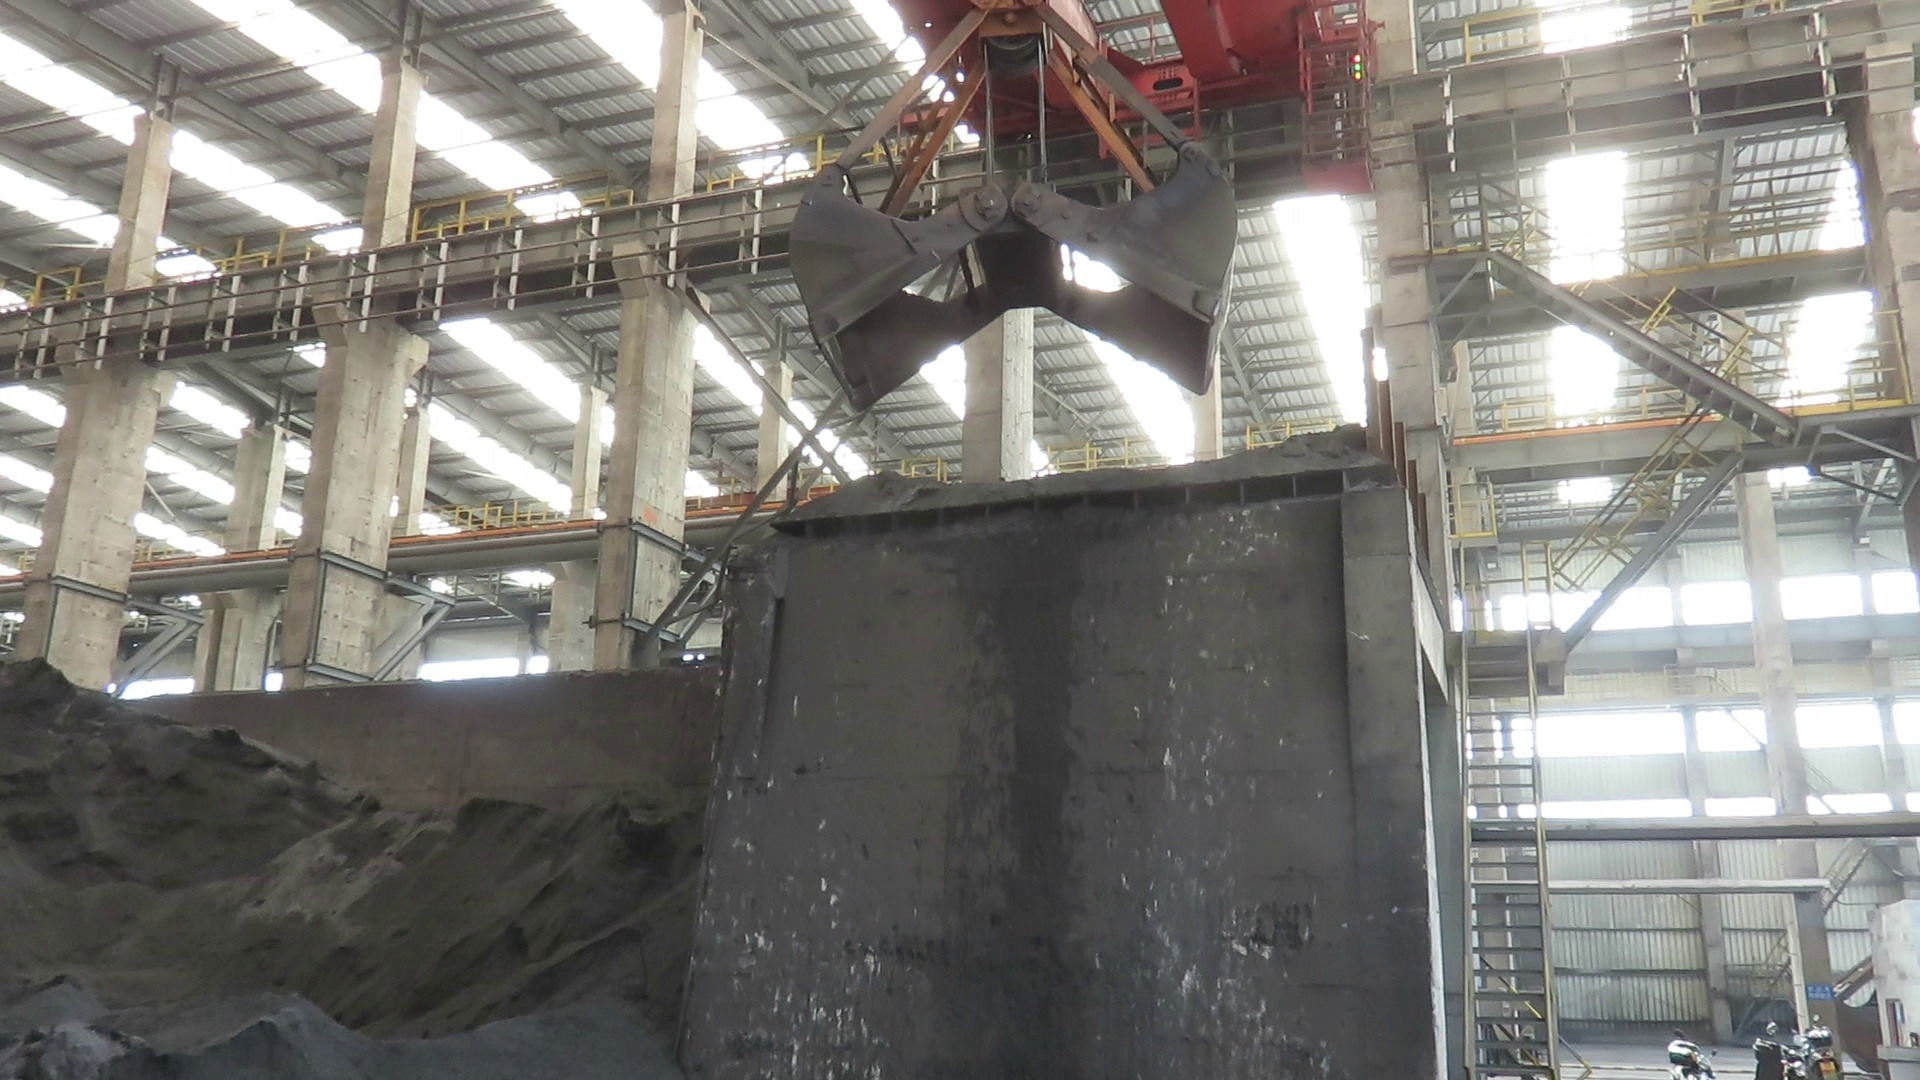grab: (781, 0, 1247, 415)
